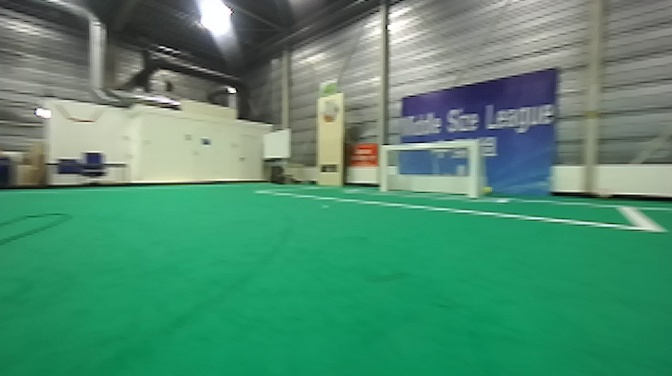ball: (480, 180, 490, 194)
goalpost: (465, 138, 490, 206), (375, 140, 389, 196)
